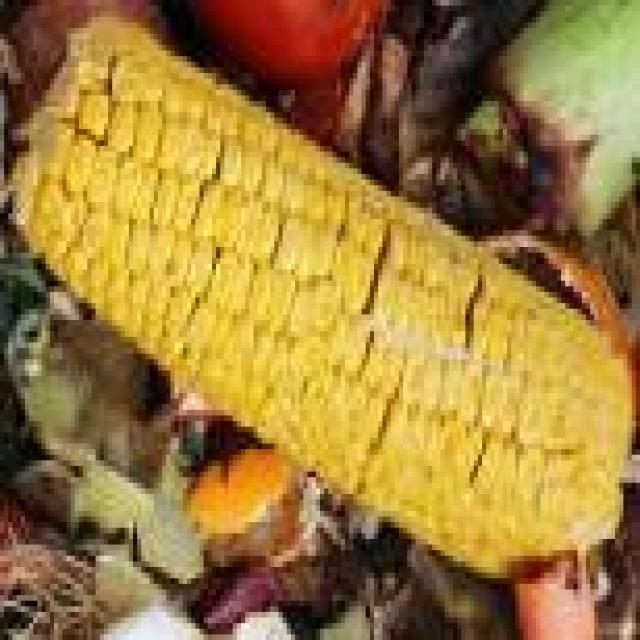food waste: (5, 0, 640, 634)
